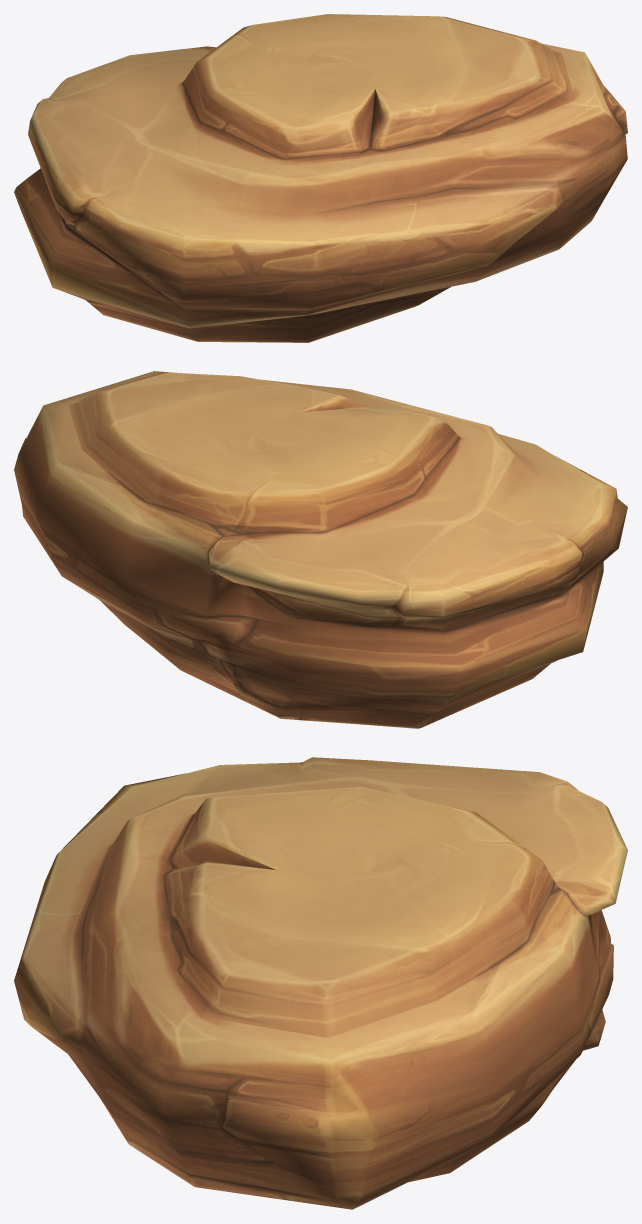
File: DE_Rock_01.fbx
3 renders of one model, top to bottom at view 1: azimuth 30°, elevation 25°; view 2: azimuth 150°, elevation 25°; view 3: azimuth 270°, elevation 25°, orthographic. The views are drawn at different scales.
Parts seen in each view (by area): view 1: DE_Rock_01; view 2: DE_Rock_01; view 3: DE_Rock_01.
Boxes of the visible parts, x1,y1,x2,y2 form: DE_Rock_01: (14, 14, 627, 342); DE_Rock_01: (14, 371, 627, 728); DE_Rock_01: (14, 757, 627, 1209).
Size of the model in its own units: 24.08 by 8.17 by 17.97.
